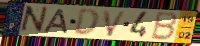4: (128, 10, 151, 40)
A: (42, 8, 69, 35)
B: (149, 11, 179, 42)
D: (72, 8, 100, 38)
N: (18, 5, 50, 35)
V: (102, 9, 128, 38)
